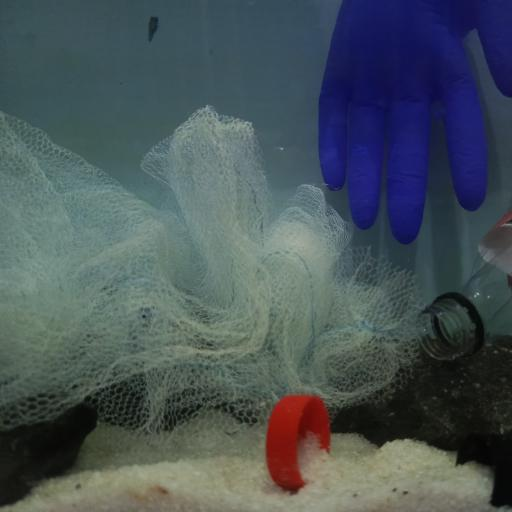bottle_cap: (267, 393, 329, 491)
glove: (317, 0, 512, 244)
net: (2, 104, 430, 450)
plastic_bottle: (417, 210, 512, 363)
